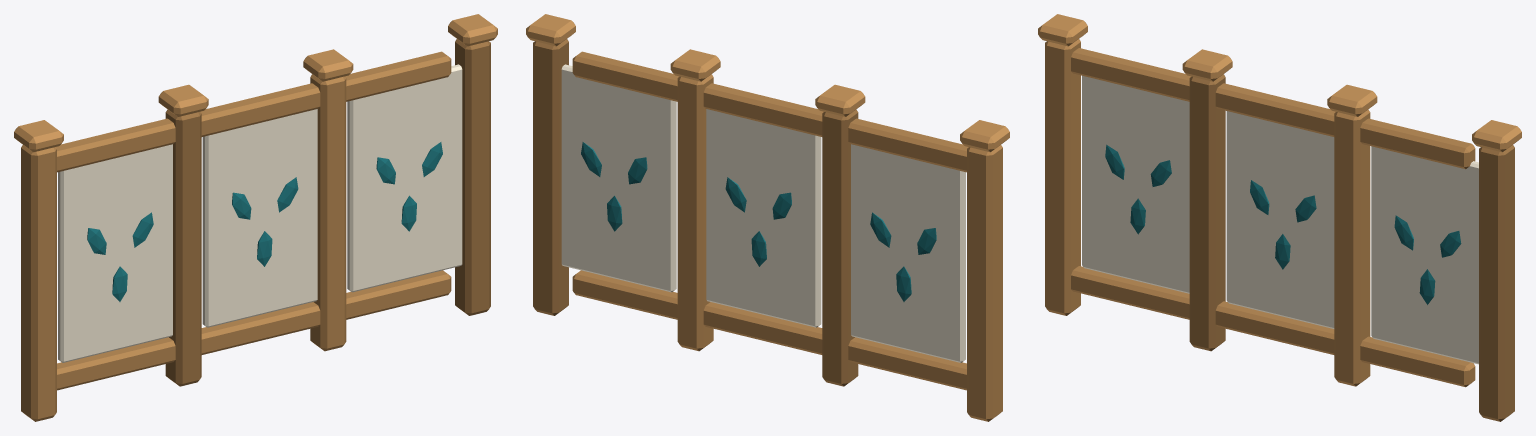
The model's file is room_divider.glb.
The picture shows the model from 3 angles, left to right: view 1: azimuth 30°, elevation 25°; view 2: azimuth 150°, elevation 25°; view 3: azimuth 330°, elevation 25°; orthographic projection.
Parts seen in each view (by area): view 1: room_divider; view 2: room_divider; view 3: room_divider.
Part boxes in pixels (left/top/right/bottom): room_divider: left=14, top=14, right=497, bottom=421; room_divider: left=526, top=14, right=1009, bottom=421; room_divider: left=1038, top=14, right=1521, bottom=421.
Bounding box in the file's own units: 1.62 × 0.95 × 0.12.
